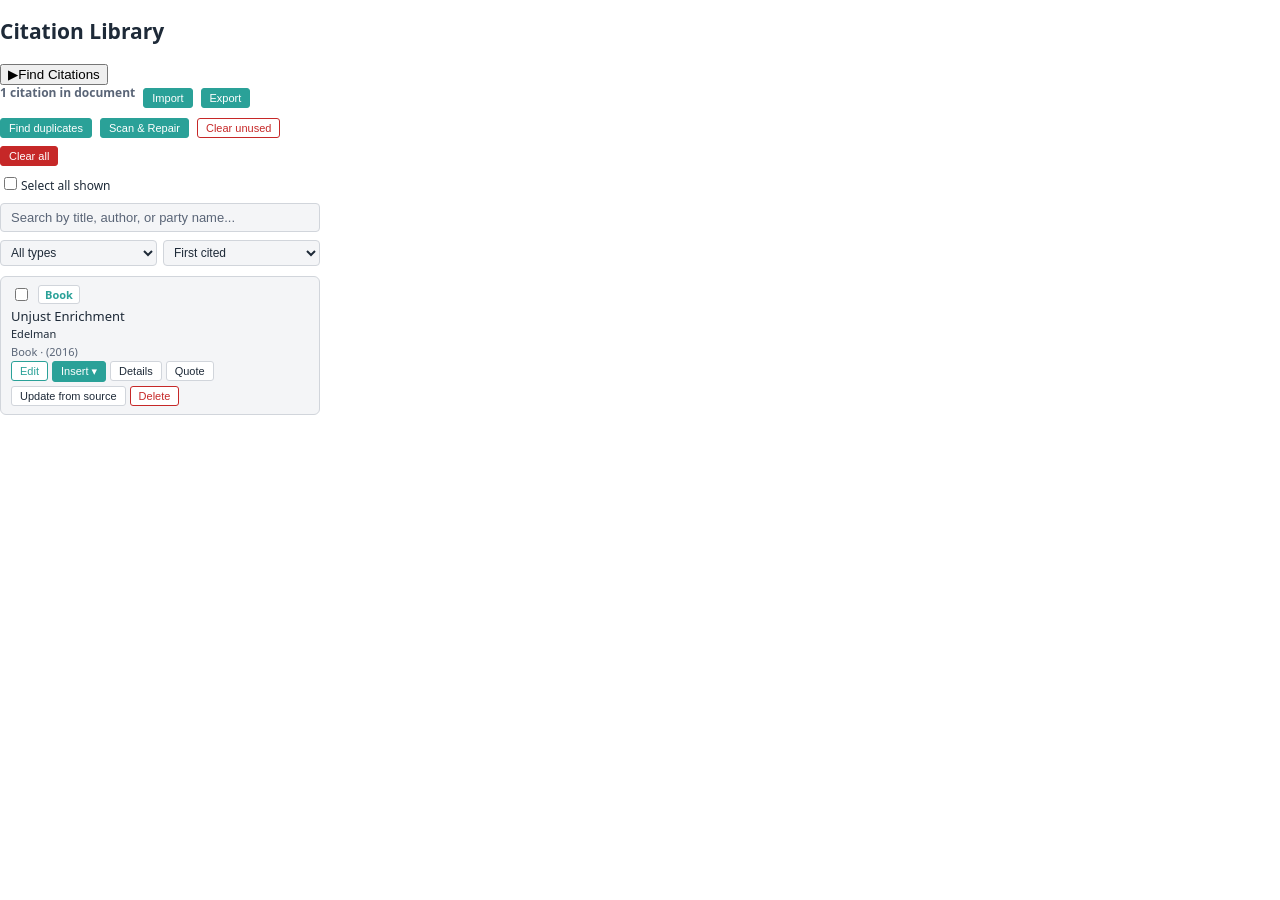
Test case: CitationLibrary interchange surface › Export opens with the library count and closes
The image size is (1280, 900).
Click the button "Export" at x=225, y=98, box x1=200 y1=88 x2=250 y2=108
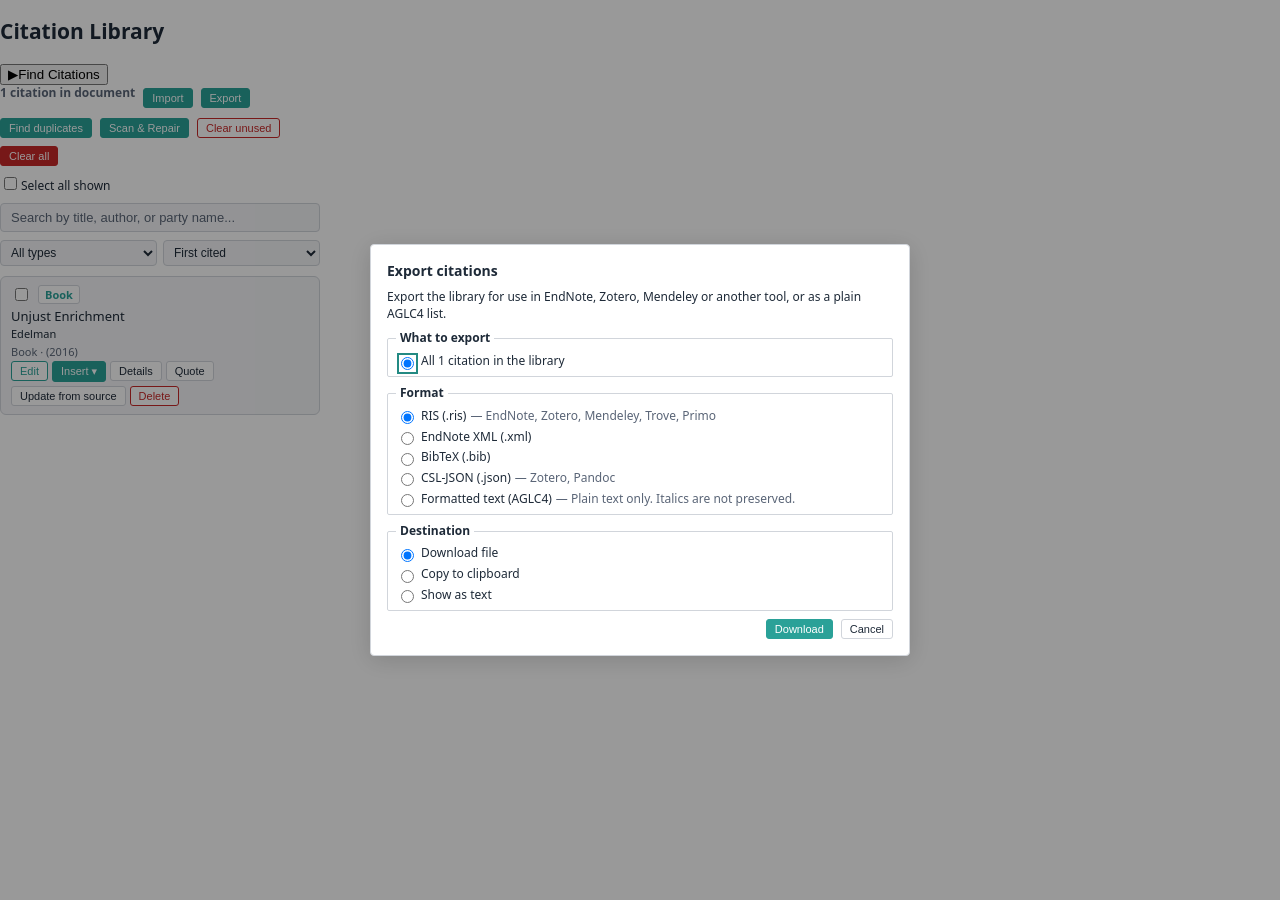
Now the dialog "Export citations" is shown, box x1=370 y1=244 x2=910 y2=656
Now the radio button labelled "All 1 citation in the library" is checked, box x1=401 y1=356 x2=414 y2=370
Click the button "Cancel" at x=867, y=629, box x1=841 y1=619 x2=893 y2=639
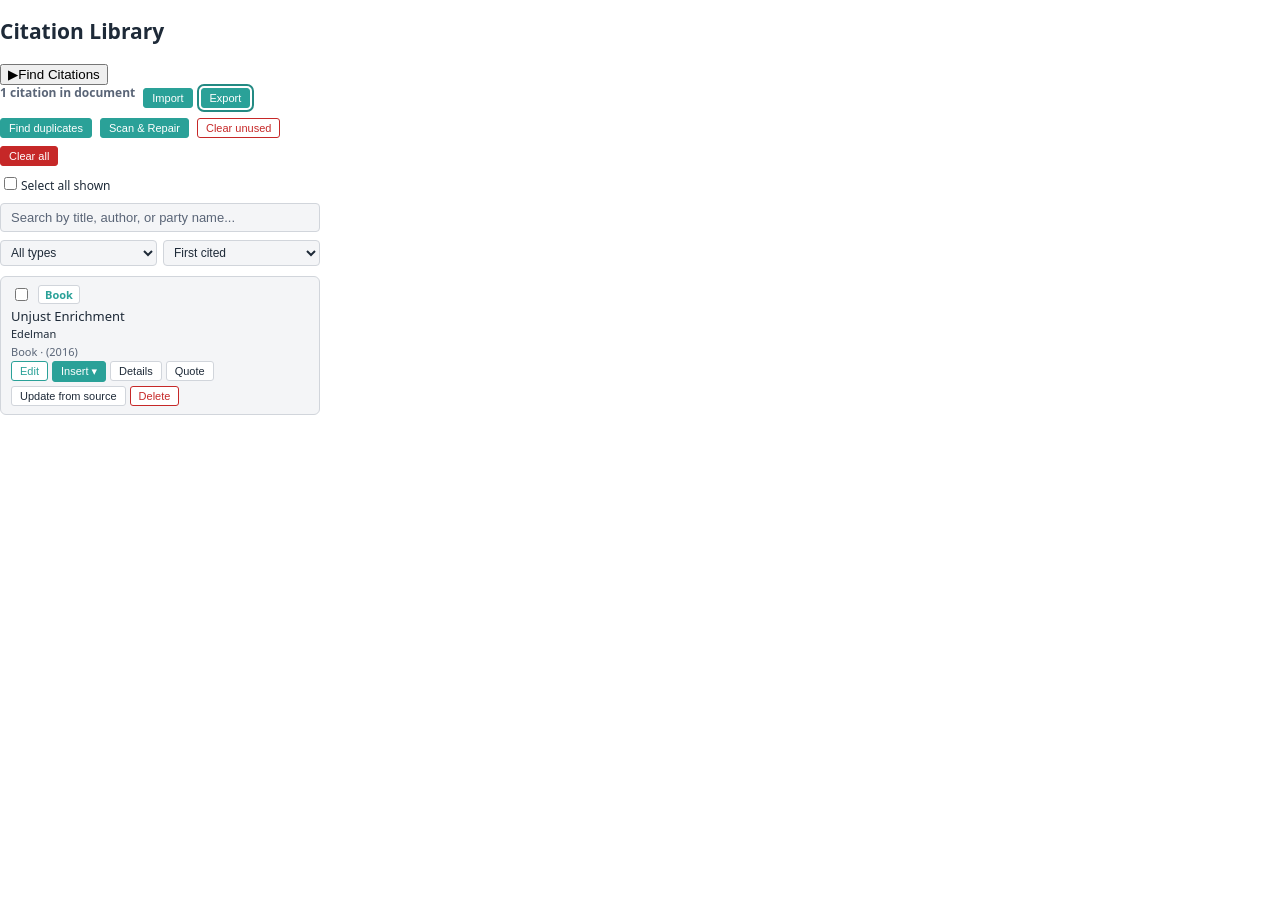
Now the dialog is gone
